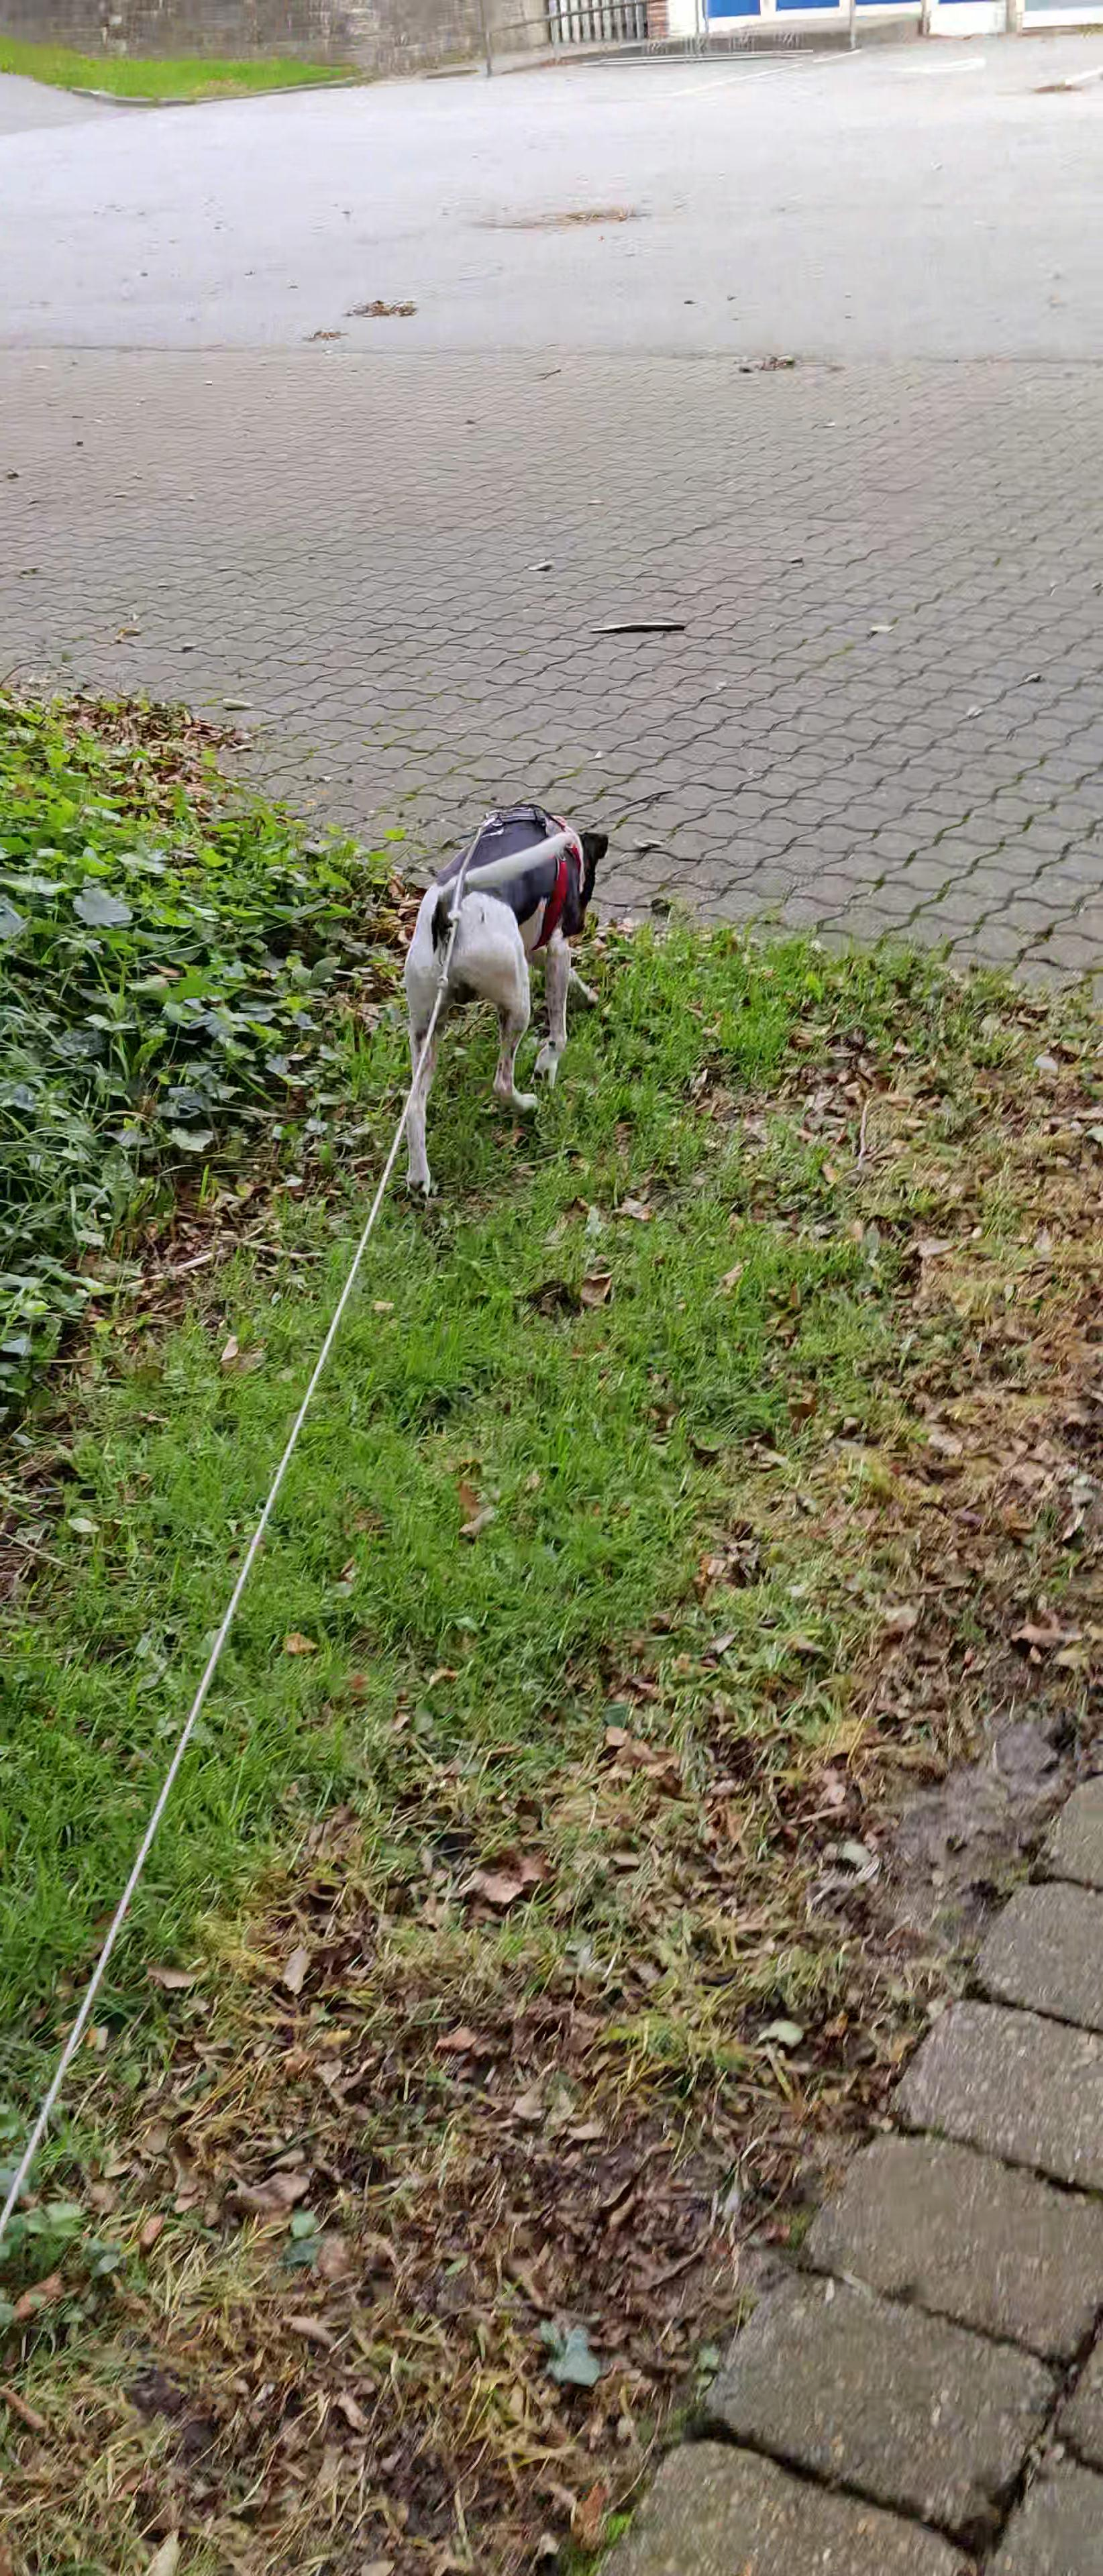Dog: (368, 780, 616, 1219)
